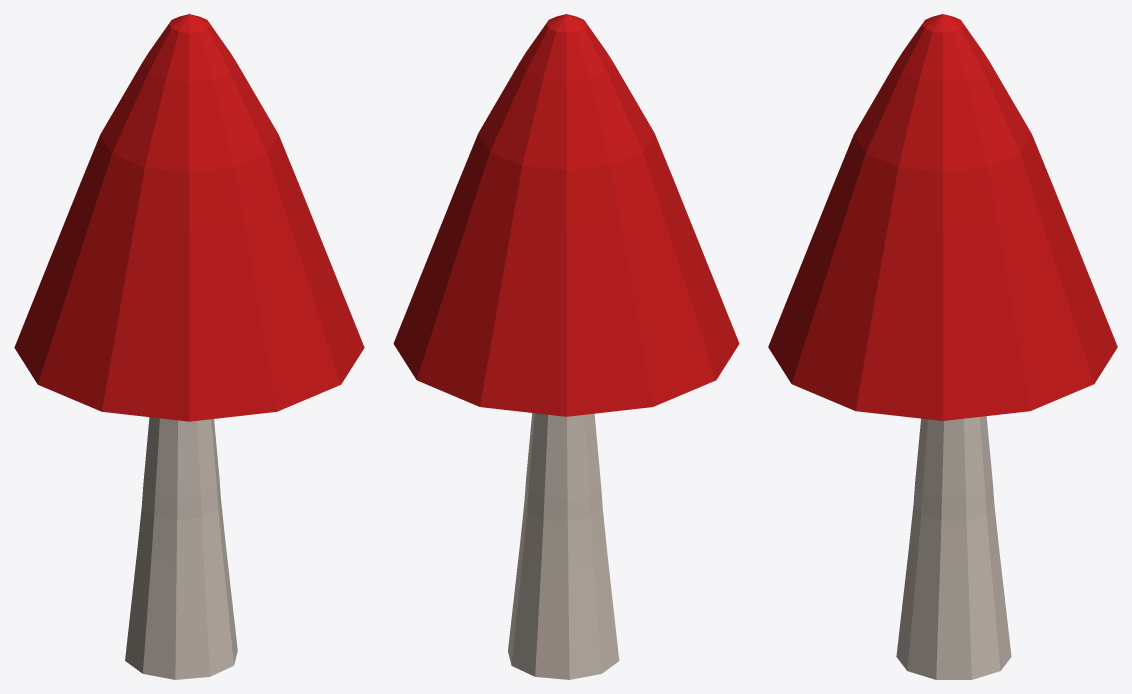
Rendered from kirmizi_mantar2.fbx.
3 renders of one model, left to right at view 1: azimuth 30°, elevation 25°; view 2: azimuth 150°, elevation 25°; view 3: azimuth 270°, elevation 25°, orthographic.
Parts seen in each view (by area): view 1: Cylinder.009, Cylinder.008; view 2: Cylinder.009, Cylinder.008; view 3: Cylinder.009, Cylinder.008.
Boxes of the visible parts, box(x1,y1,x2,y2) form: Cylinder.009: box(14, 14, 364, 421); Cylinder.008: box(125, 417, 237, 679); Cylinder.009: box(393, 14, 739, 416); Cylinder.008: box(508, 413, 619, 679); Cylinder.009: box(768, 14, 1117, 420); Cylinder.008: box(896, 416, 1011, 679).
Size of the model in its own units: 992 by 2016 by 992.
